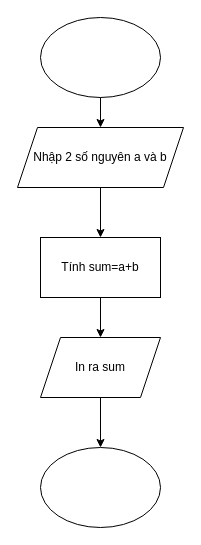
This 201x545 diagram has some shape labels left out. The shapes that lost their labels are listed below. From the top down, each one's centre as x and y in pixels, then its label:
(x=100, y=57): Start
(x=100, y=487): End
